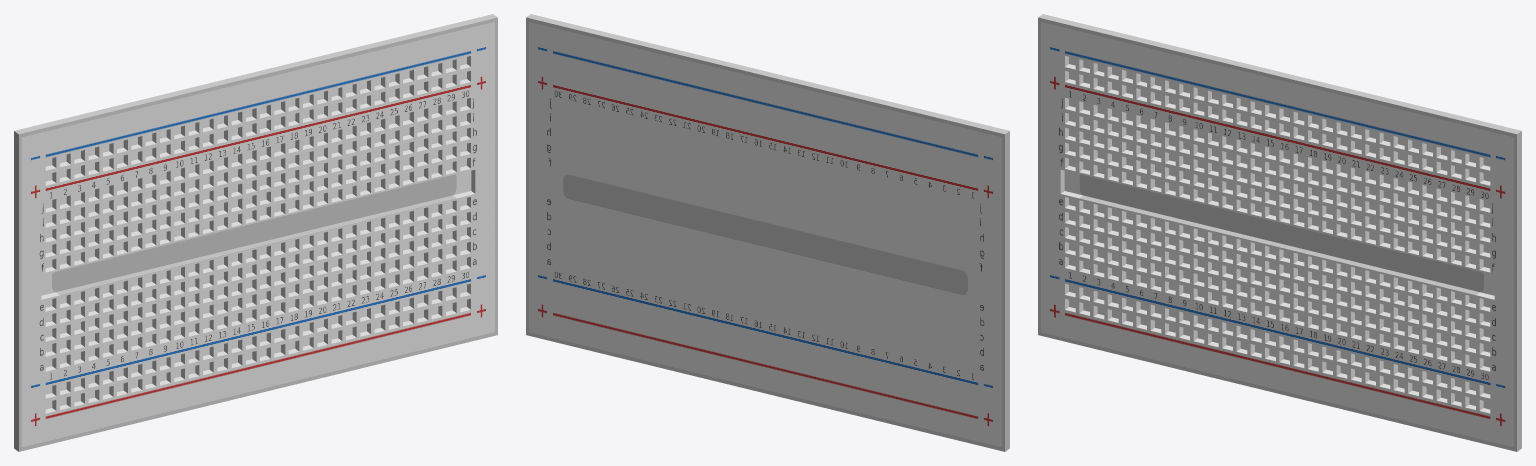
Rendered from breadboard_model.obj.
3 views of the same model, side by side, from view 1: azimuth 30°, elevation 25°; view 2: azimuth 150°, elevation 25°; view 3: azimuth 330°, elevation 25° (orthographic).
Parts seen in each view (by area): view 1: obj1; view 2: obj1; view 3: obj1.
Boxes of the visible parts, <box> form: obj1: <box>14,14,497,451</box>; obj1: <box>526,14,1009,451</box>; obj1: <box>1038,14,1521,451</box>.
Bounding box in the file's own units: 1.34 × 0.849 × 0.023.
1 material, 1 textured.
